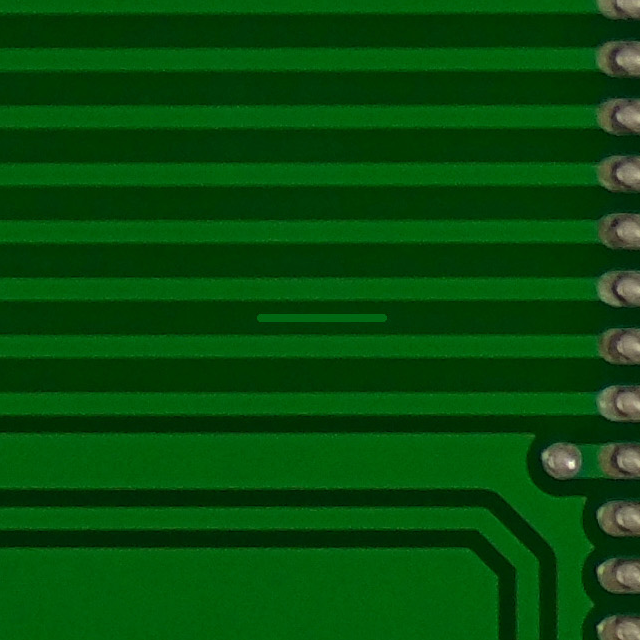spurious_copper: (240, 299, 401, 342)
